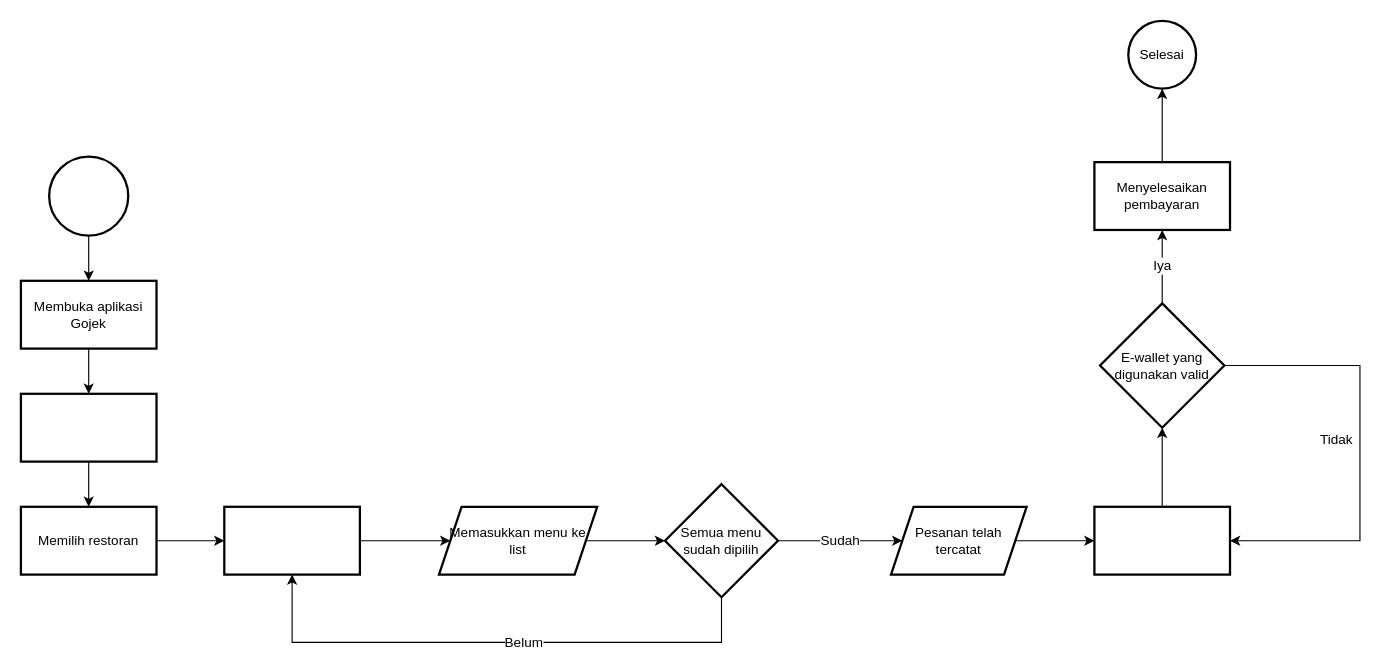
Image size: 1389x671. Some labels were removed from this diagram. Each missing label, with the centre of its shape:
Memilih E-wallet yang akan digunakan: point (1162, 540)
Memilih fitur Gofood: point (88, 427)
Memilih menu: point (291, 540)
Mulai: point (88, 195)
